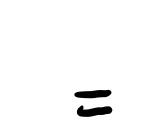eqv: (68, 86, 115, 119)
